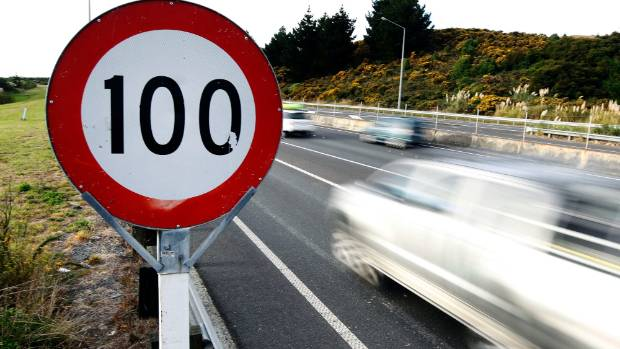Speed_limit_100km: (44, 3, 287, 230)
